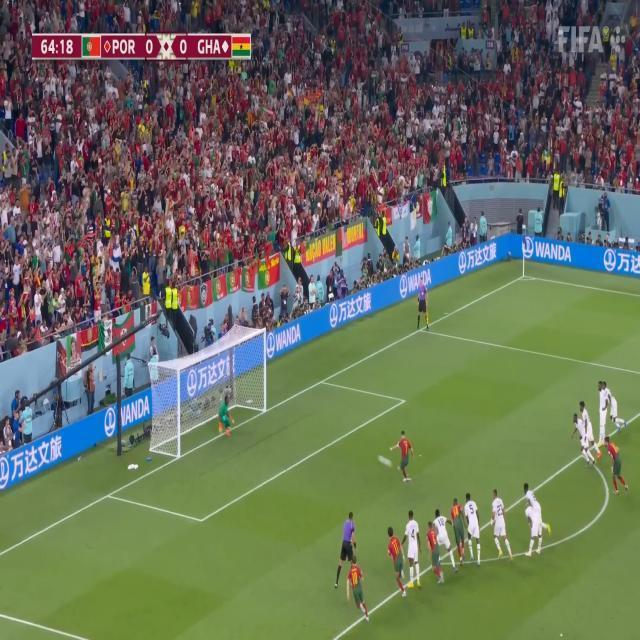player: (486, 478, 516, 567), (605, 431, 630, 499), (348, 551, 370, 624), (463, 480, 482, 563), (434, 504, 456, 575), (525, 480, 554, 533), (406, 500, 422, 593), (384, 526, 405, 595), (522, 496, 541, 567), (450, 490, 466, 569), (572, 409, 593, 469), (427, 511, 442, 589), (579, 389, 598, 450), (597, 383, 610, 457), (398, 428, 413, 485), (221, 389, 234, 442)
